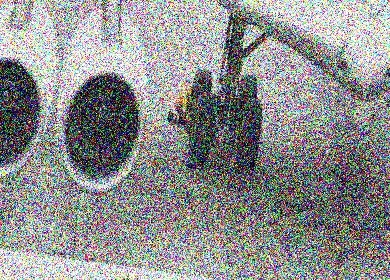chock: (184, 155, 201, 171)
wheel: (186, 87, 218, 169), (233, 94, 266, 172), (185, 67, 214, 140), (233, 72, 258, 121)
